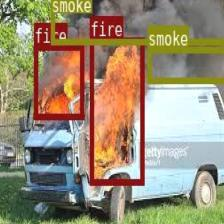fire: (90, 37, 144, 185), (34, 43, 83, 118)
smoke: (50, 0, 224, 44), (146, 46, 224, 82)
